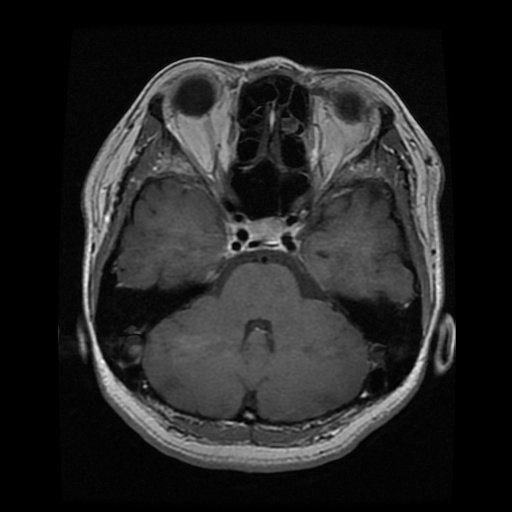pituitary: (245, 217, 285, 243)
